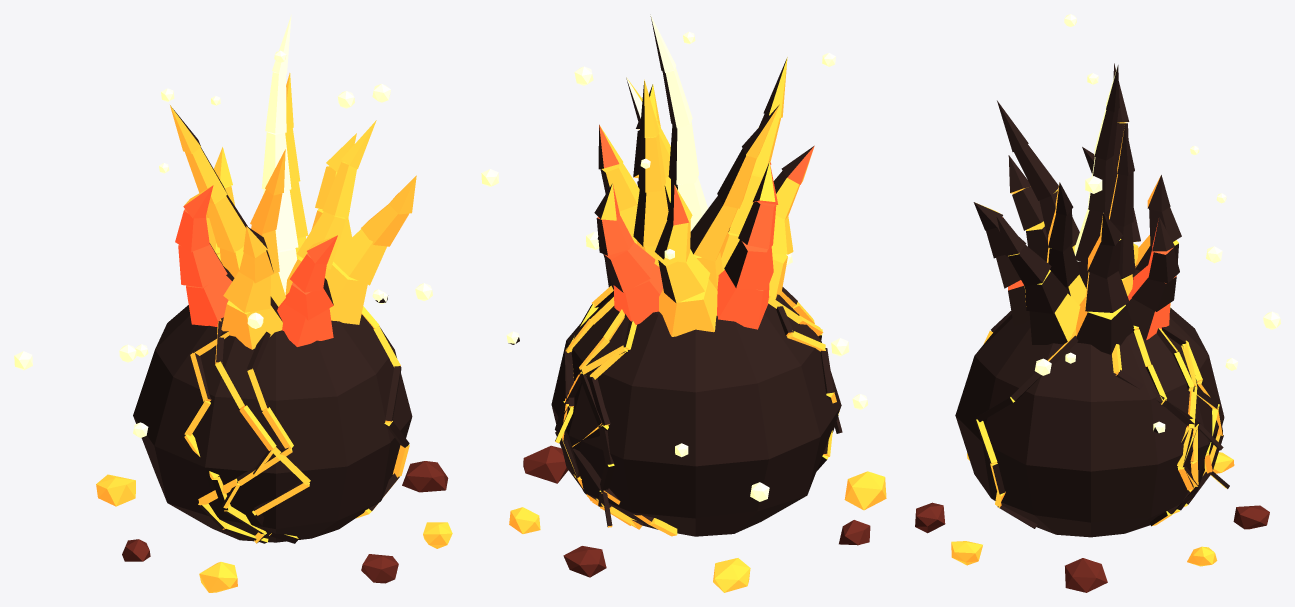
File: fruto-chamas.glb
The picture shows the model from 3 angles, left to right: view 1: azimuth 30°, elevation 25°; view 2: azimuth 150°, elevation 25°; view 3: azimuth 270°, elevation 25°; orthographic projection. The views are drawn at different scales.
Parts seen in each view (by area): view 1: Fruit_Body; view 2: Fruit_Body; view 3: Fruit_Body.
Part boxes in pixels (<box>): Fruit_Body: <box>14,14,452,592</box>; Fruit_Body: <box>481,14,886,592</box>; Fruit_Body: <box>915,14,1280,592</box>.
Size of the model in its own units: 1.41 by 1.98 by 1.4.
